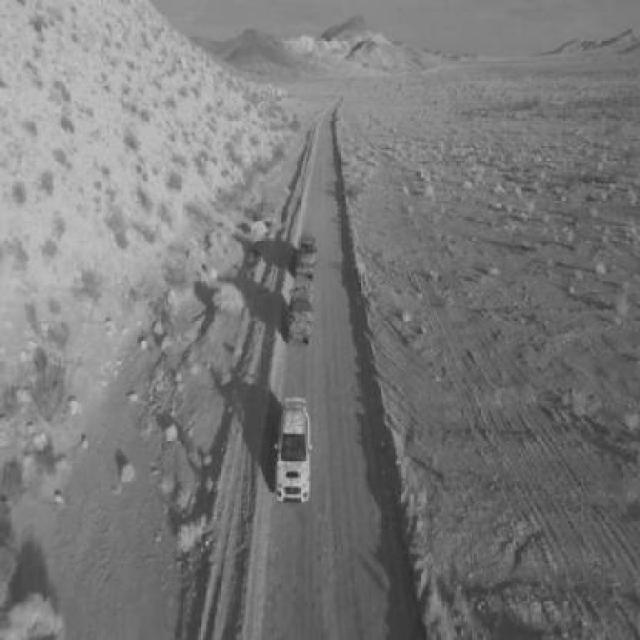Vehicle: (278, 396, 315, 504), (287, 280, 318, 347), (296, 231, 320, 282)
